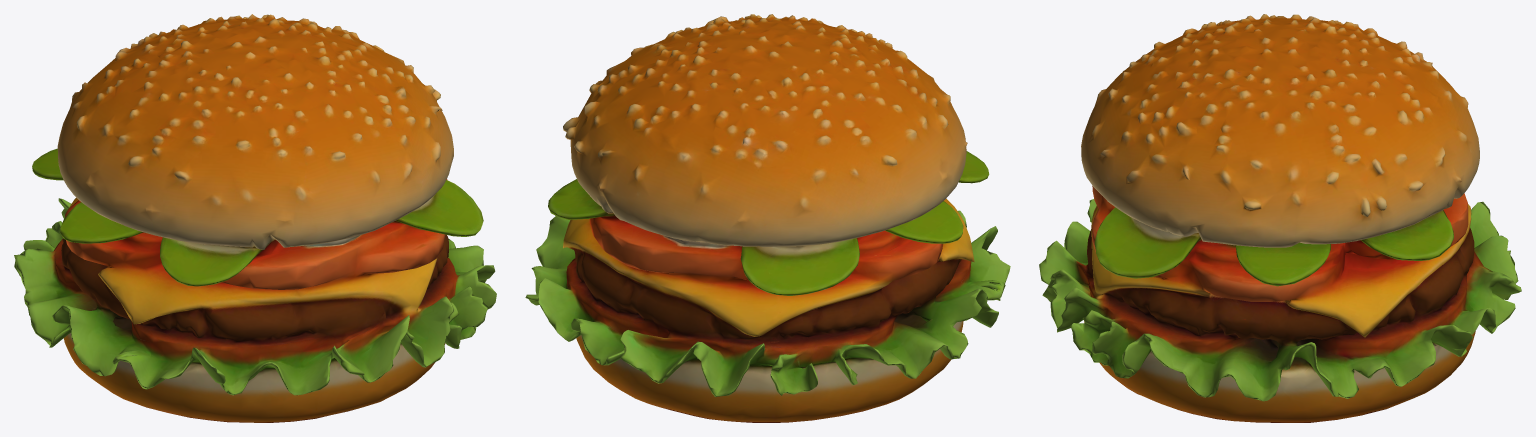
The picture shows the model from 3 angles, left to right: view 1: azimuth 30°, elevation 25°; view 2: azimuth 150°, elevation 25°; view 3: azimuth 270°, elevation 25°; orthographic projection.
Visible parts, largest first — view 1: tripo_node_438b5714-5600-4eef-b364-03f11e3a7fb8_0; view 2: tripo_node_438b5714-5600-4eef-b364-03f11e3a7fb8_0; view 3: tripo_node_438b5714-5600-4eef-b364-03f11e3a7fb8_0.
Part boxes in pixels (x1=…): tripo_node_438b5714-5600-4eef-b364-03f11e3a7fb8_0: x1=14, y1=14, x2=496, y2=422; tripo_node_438b5714-5600-4eef-b364-03f11e3a7fb8_0: x1=525, y1=14, x2=1010, y2=422; tripo_node_438b5714-5600-4eef-b364-03f11e3a7fb8_0: x1=1039, y1=14, x2=1521, y2=422.
Bounding box in the file's own units: 0.9963 × 0.7088 × 0.9957.
